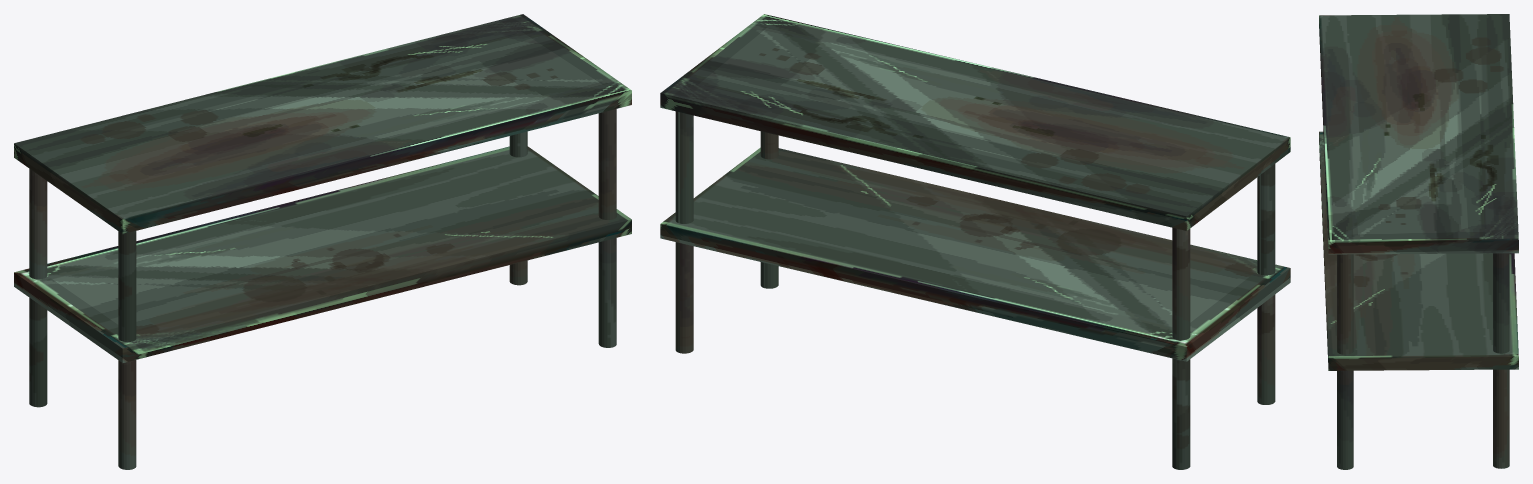
The model's file is SM_table2.fbx.
The picture shows the model from 3 angles, left to right: view 1: azimuth 30°, elevation 25°; view 2: azimuth 150°, elevation 25°; view 3: azimuth 270°, elevation 25°; orthographic projection. The views are drawn at different scales.
Parts seen in each view (by area): view 1: SM_table1.002; view 2: SM_table1.002; view 3: SM_table1.002.
Part boxes in pixels (x1,y1,x2,y2): SM_table1.002: [14, 14, 631, 469]; SM_table1.002: [660, 14, 1290, 469]; SM_table1.002: [1319, 14, 1518, 469].
Size of the model in its own units: 183 by 86.88 by 67.91.
